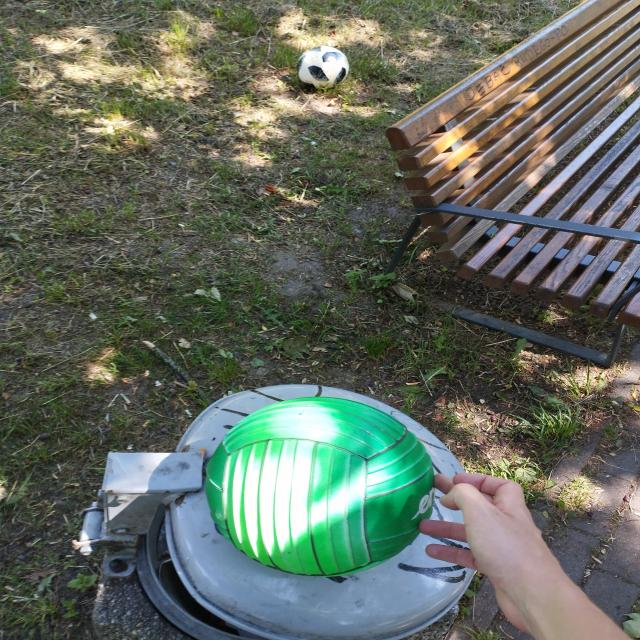nozna: (298, 46, 350, 89)
zielona: (208, 407, 436, 587)
